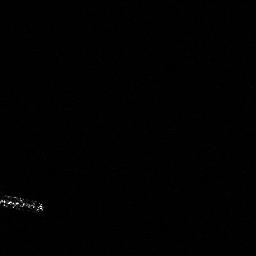ship: (1, 193, 46, 214)
